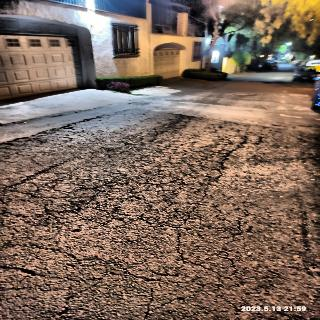alligator-crack: (0, 183, 239, 316)
